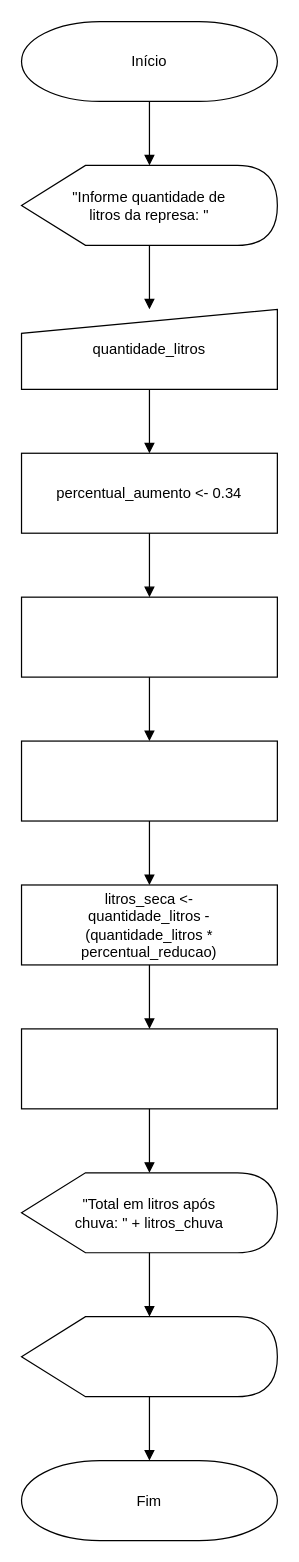
Some shapes in this 299 by 1562 pixel diagram are drawn without their labels. Each missing label, with the centre of its shape:
"Total em mililitros após seca: " + mililitros_seca: the point at 148,1356
litros_chuva <- quantidade_litros + (quantidade_litros * percentual_aumento): the point at 148,780
mililitros_seca <- litros_seca * 1000: the point at 148,1068
percentual_reducao <- 0.40: the point at 148,636
